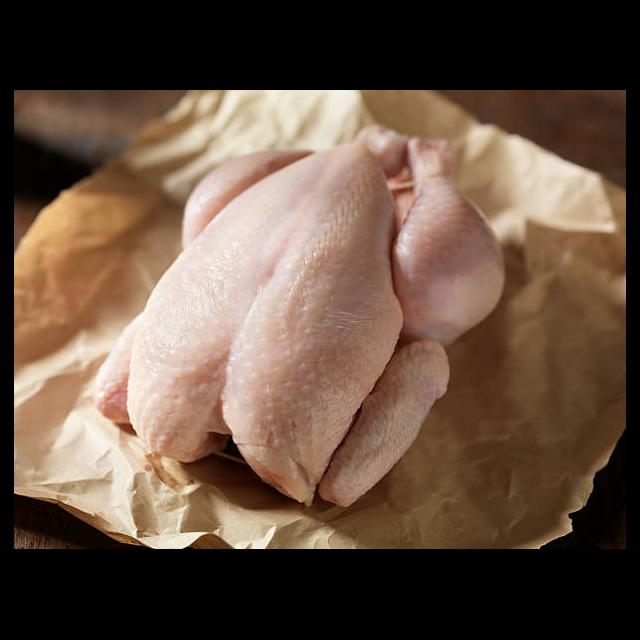chicken: (92, 123, 508, 509)
